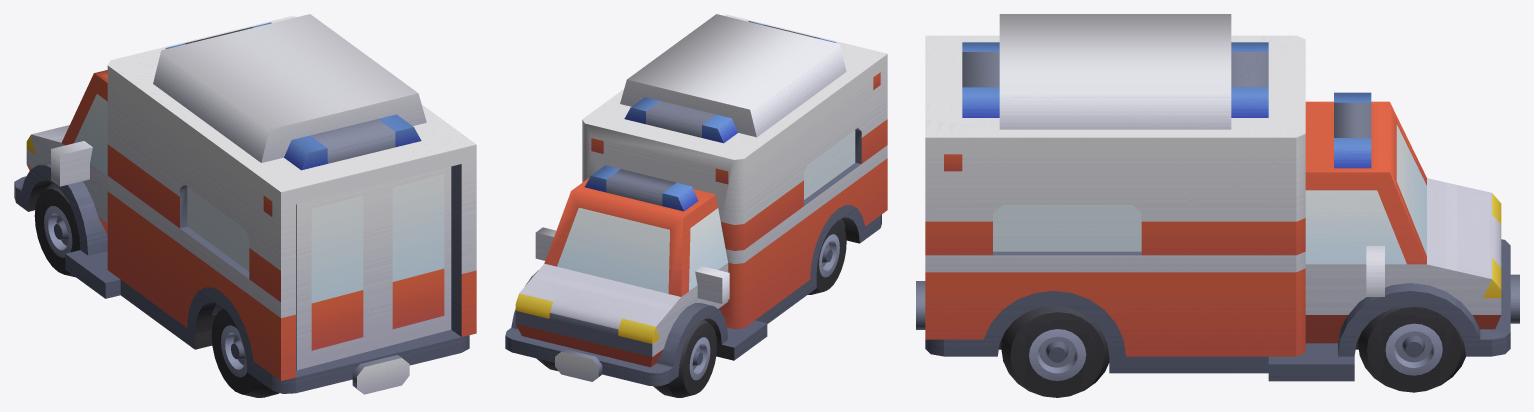
File: ambulance_inverted.glb
3 renders of one model, left to right at view 1: azimuth 30°, elevation 25°; view 2: azimuth 150°, elevation 25°; view 3: azimuth 270°, elevation 25°, orthographic. The views are drawn at different scales.
Parts seen in each view (by area): view 1: body, door-left, door-right, wheel-front-left, wheel-back-left; view 2: body, wheel-front-left, wheel-back-left; view 3: body, wheel-back-right, wheel-front-right.
Boxes of the visible parts, <box> form: body: <box>14,14,476,394</box>; door-left: <box>296,184,377,370</box>; door-right: <box>378,166,451,348</box>; wheel-front-left: <box>34,183,80,277</box>; wheel-back-left: <box>211,308,279,397</box>; body: <box>505,14,887,386</box>; wheel-front-left: <box>653,319,717,397</box>; wheel-back-left: <box>808,220,846,294</box>; body: <box>916,14,1519,381</box>; wheel-back-right: <box>1000,306,1109,397</box>; wheel-front-right: <box>1357,306,1465,392</box>.
Bounding box in the file's own units: 0.0722 × 0.0867 × 0.1565.
Materials: 1 (1 with a texture image).
